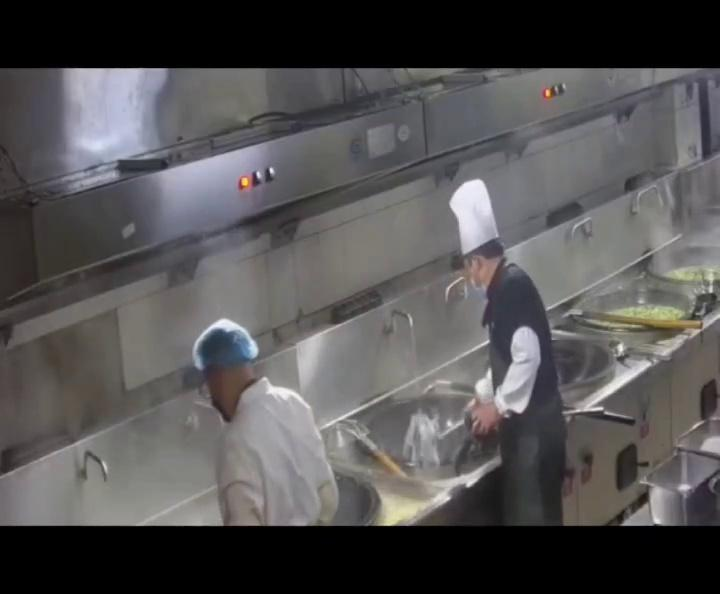gloves: (198, 319, 257, 364)
